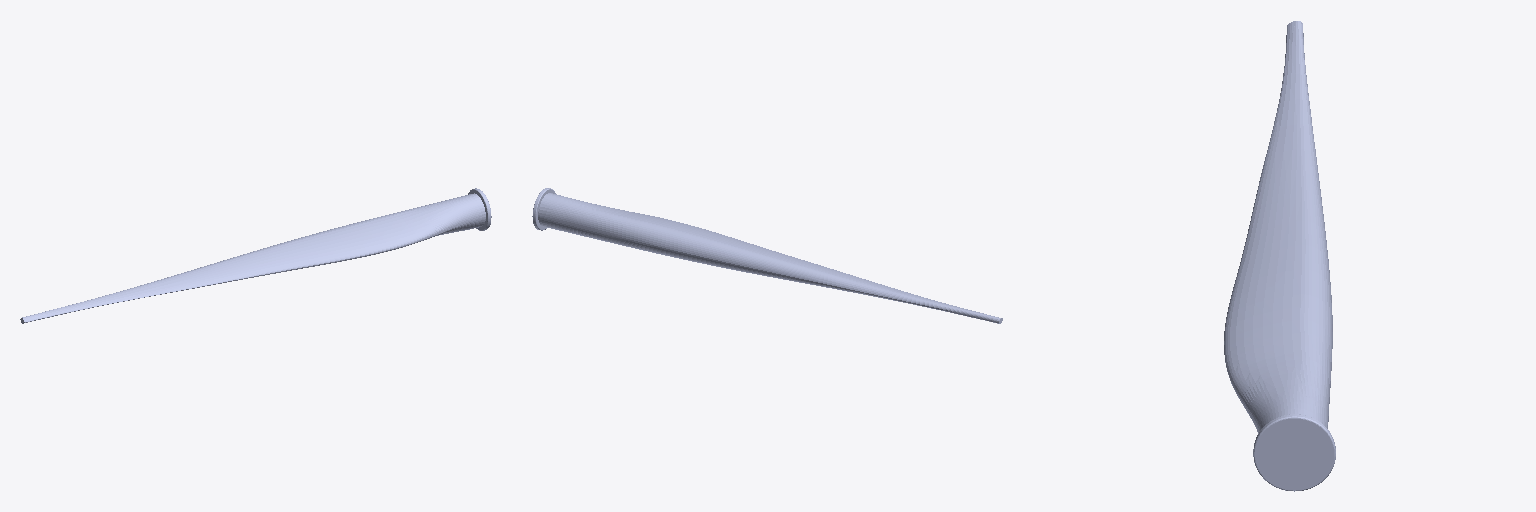
The robot description file, URDF, robot "WindTurbine_Blade":
<?xml version="1.0" encoding="utf-8"?>
<!-- This URDF was automatically created by SolidWorks to URDF Exporter! Originally created by [author] ([email redacted]) 
     Commit Version: 1.6.0-4-g7f85cfe  Build Version: 1.6.7995.38578
     For more information, please see http://wiki.ros.org/sw_urdf_exporter -->
<robot name="WindTurbine_Blade">
  <link name="base_link">
    <inertial>
      <origin xyz="2.15006788434613E-05 -0.125000010503683 -0.000265233016186528" rpy="0 0 0" />
      <mass value="1184.80083650758" />
      <inertia ixx="452.989065776454" ixy="-1.58845145740807E-05" ixz="0.00263232244345089" iyy="893.855294680402" iyz="2.12593762057867E-06" izz="453.079003263354" />
    </inertial>
    <visual>
      <origin xyz="1 13 0" rpy="0 0 0" />
      <geometry>
        <mesh filename="package://sipder_robot/meshes/spibot/WindTurbine_Blade.STL" />
      </geometry>
      <material name="">
        <color rgba="0.792156862745098 0.819607843137255 0.933333333333333 1" />
      </material>
    </visual>
    <collision>
      <origin xyz="0 0 0" rpy="0 0 0" />
      <geometry>
        <mesh filename="package://sipder_robot/meshes/spibot/WindTurbine_Blade.STL" />
      </geometry>
    </collision>
  </link>
</robot>

--- Render facts (derived) ---
3 views of the same robot in one strip: view 1: azimuth 30°, elevation 25°; view 2: azimuth 150°, elevation 25°; view 3: azimuth 270°, elevation 25° (orthographic).
Robot: WindTurbine_Blade — 1 links, 0 joints (none); root link base_link; default pose: all joints at 0.
Links seen in each view (by area): view 1: base_link; view 2: base_link; view 3: base_link.
Link boxes in pixels (box(x1,y1,x2,y2)): base_link: box(20, 188, 491, 323); base_link: box(532, 188, 1002, 323); base_link: box(1224, 21, 1335, 491).
Bounding box of the posed robot: 30.25 × 3.34 × 2.46 m (x, y, z).
Meshes: 1 distinct files referenced, 1 mesh visuals loaded (1 binary STL).